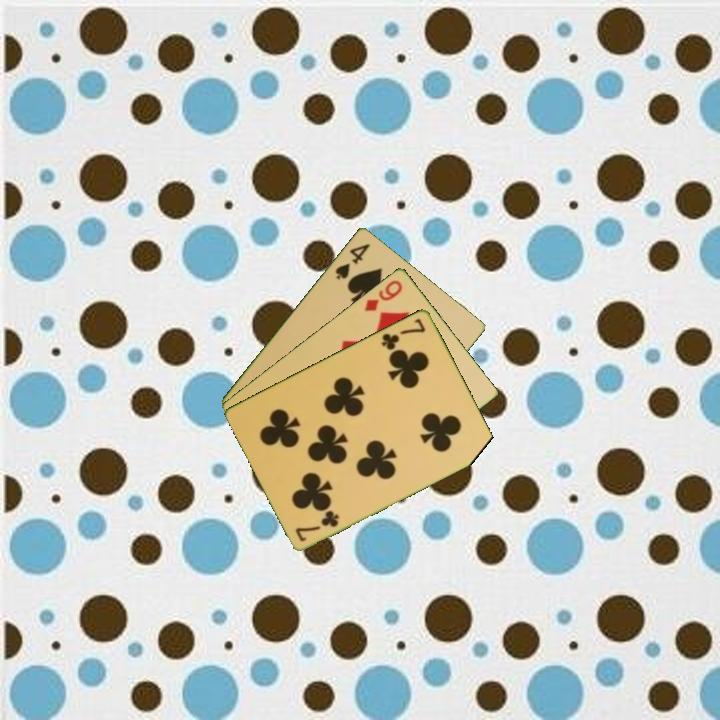4s: (331, 240, 373, 282)
7c: (378, 314, 429, 353), (292, 507, 342, 544)
9d: (361, 276, 406, 314)
